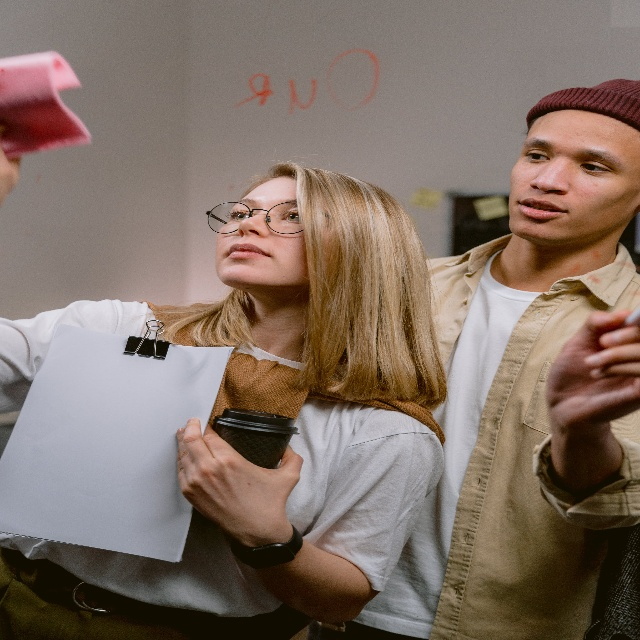Gafas: (205, 195, 332, 235)
Sin_guantes: (174, 411, 303, 541), (544, 308, 640, 433)
